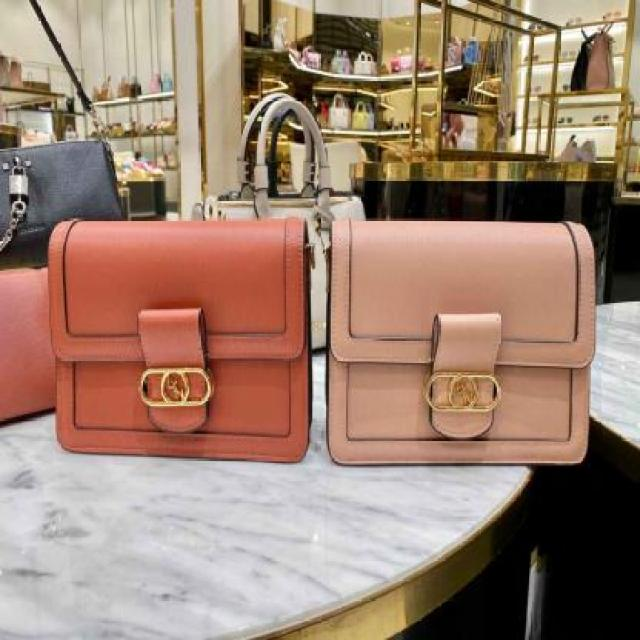Bag: (43, 136, 323, 481), (305, 201, 600, 510)
